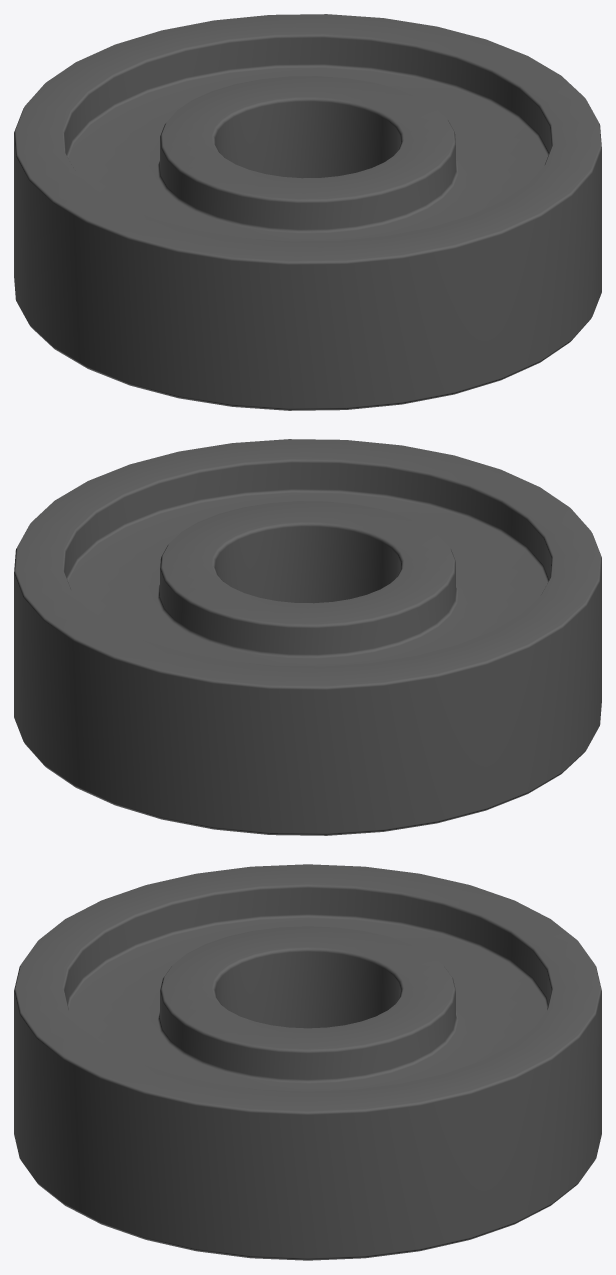
The model's file is Public_18_Weight_3.glb.
The picture shows the model from 3 angles, top to bottom: view 1: azimuth 30°, elevation 25°; view 2: azimuth 150°, elevation 25°; view 3: azimuth 270°, elevation 25°; orthographic projection.
Parts seen in each view (by area): view 1: Public_18_Weight_3; view 2: Public_18_Weight_3; view 3: Public_18_Weight_3.
Boxes of the visible parts, x1=… form: Public_18_Weight_3: x1=14, y1=14, x2=601, y2=410; Public_18_Weight_3: x1=14, y1=439, x2=601, y2=835; Public_18_Weight_3: x1=14, y1=864, x2=601, y2=1260.
Size of the model in its own units: 0.9686 by 0.2719 by 0.9686.
1 material, 1 textured.
